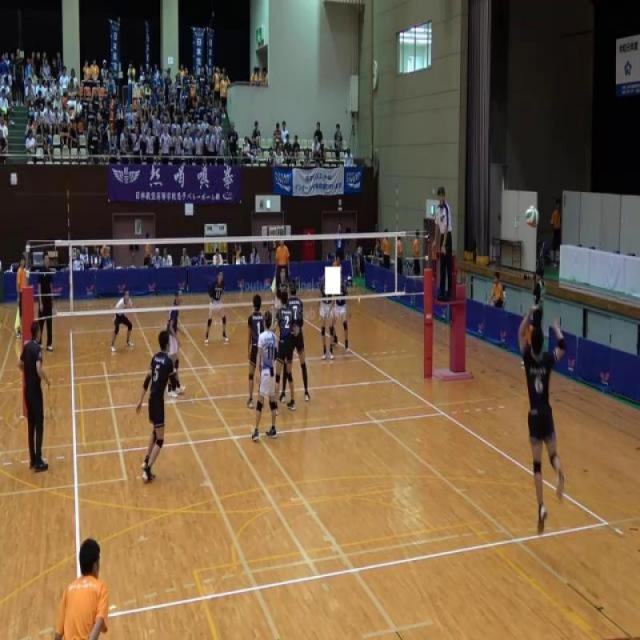volleyball: (524, 204, 540, 229)
